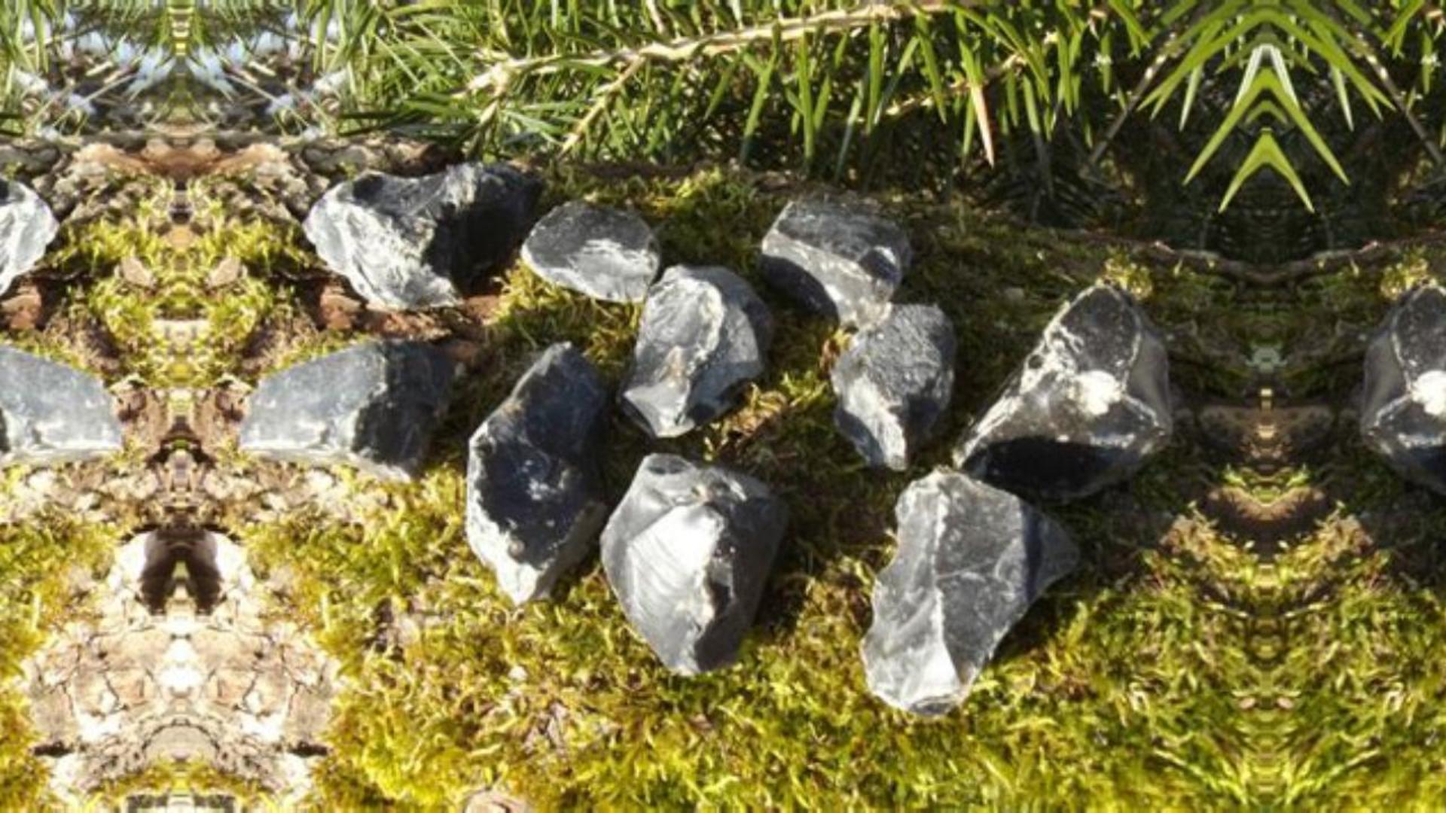rock: (861, 466, 1077, 714), (953, 283, 1171, 500), (600, 454, 787, 674), (465, 341, 608, 604), (303, 163, 541, 309), (239, 340, 452, 479), (621, 264, 770, 437), (830, 304, 955, 470), (761, 193, 909, 326), (1360, 286, 1445, 493), (0, 346, 121, 462), (521, 201, 659, 301), (0, 176, 58, 294)
